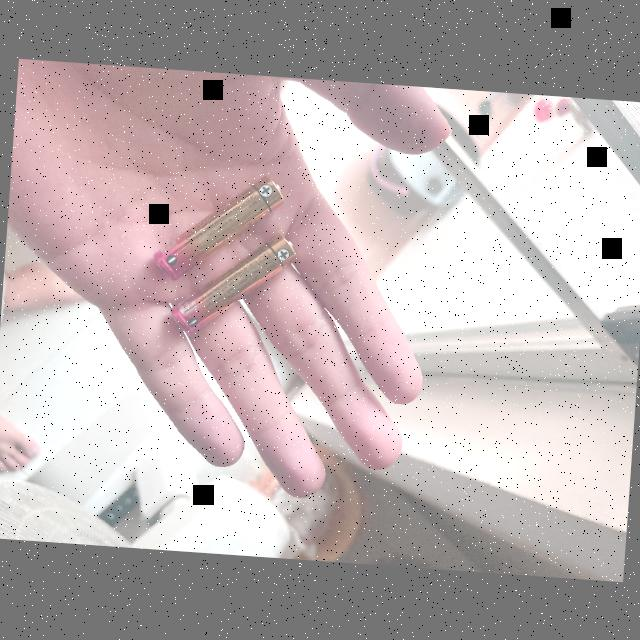battery: (149, 174, 287, 283), (166, 231, 301, 342)
